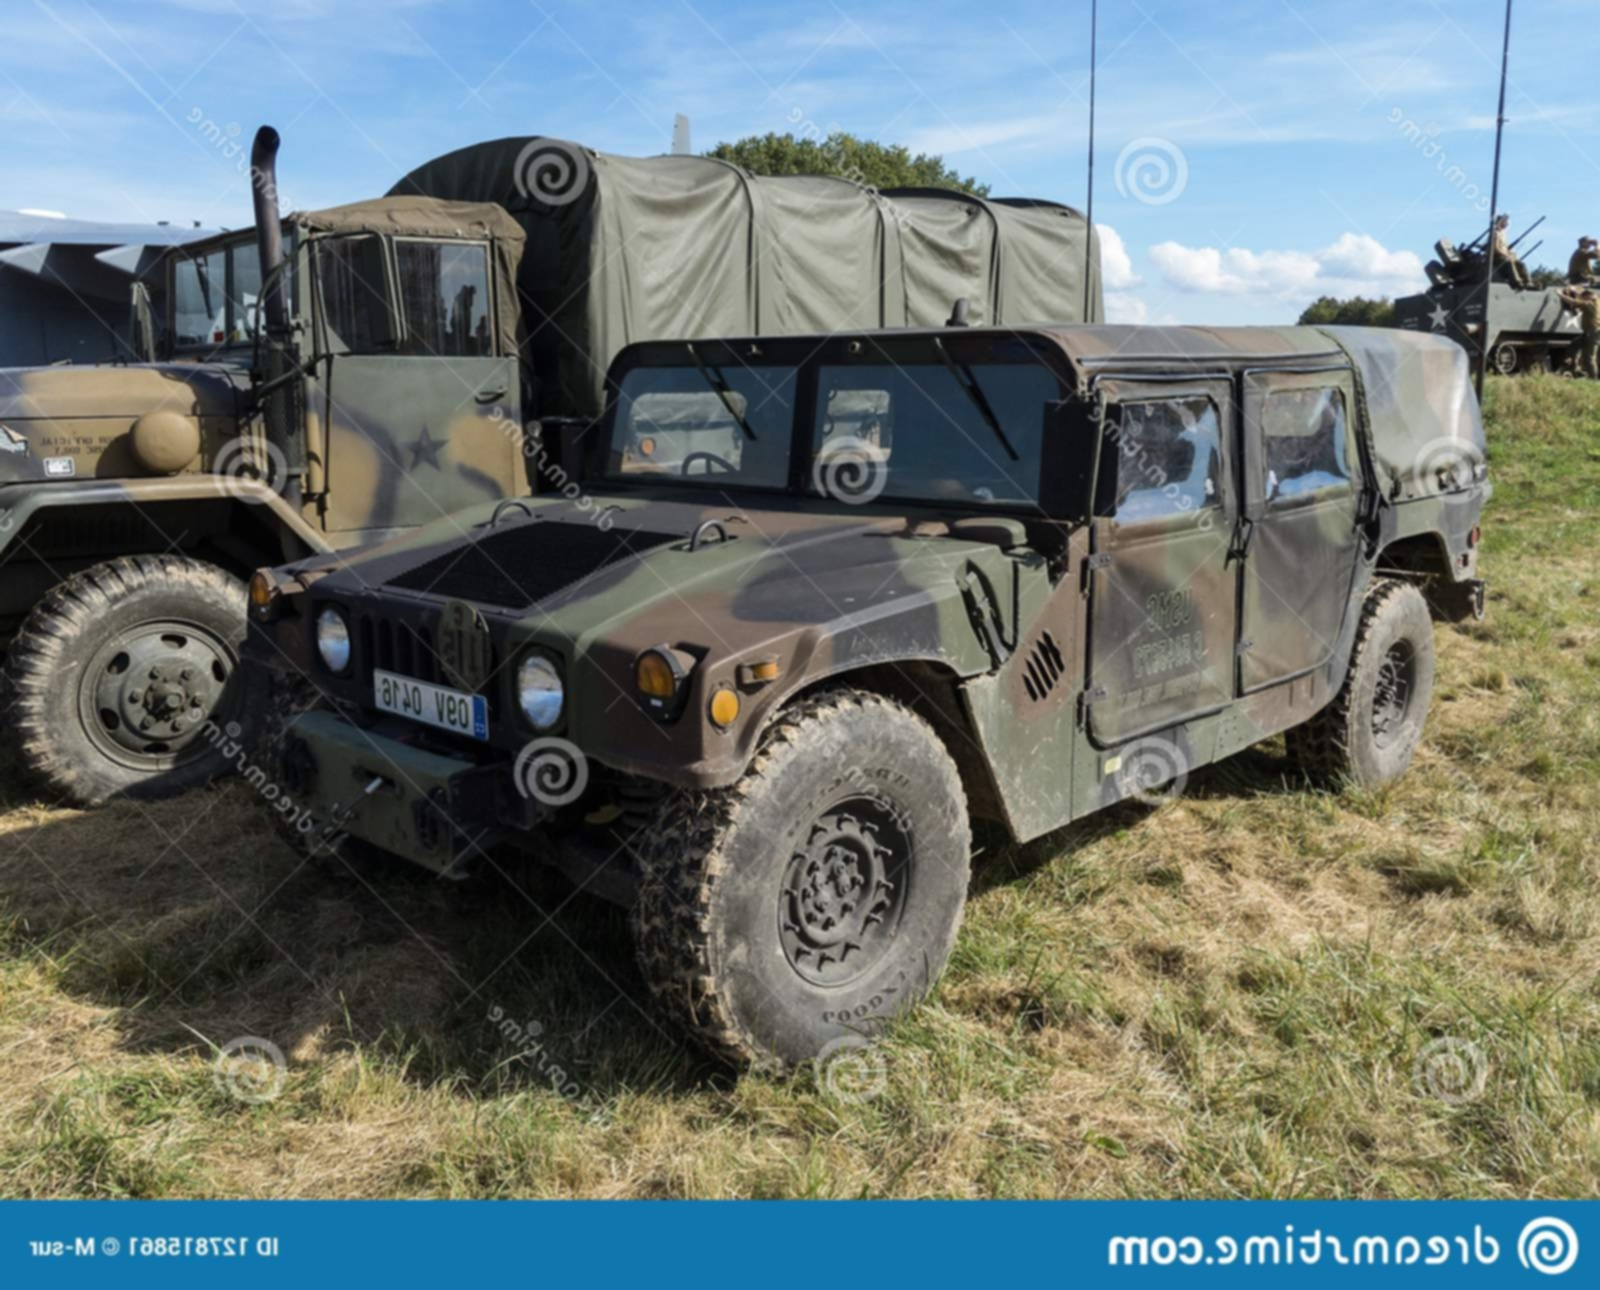license_plate: (372, 667, 491, 741)
